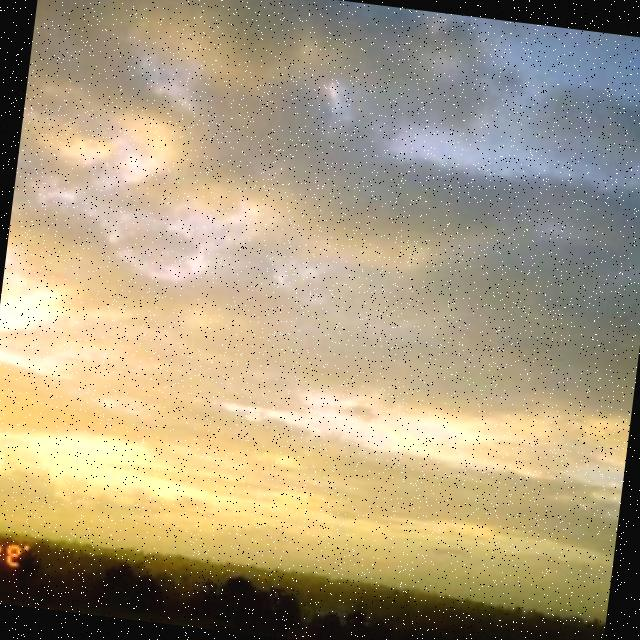Sc: (1, 1, 640, 533)
